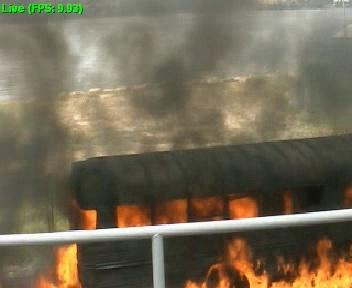fire: (241, 255, 352, 288), (58, 248, 81, 282)
